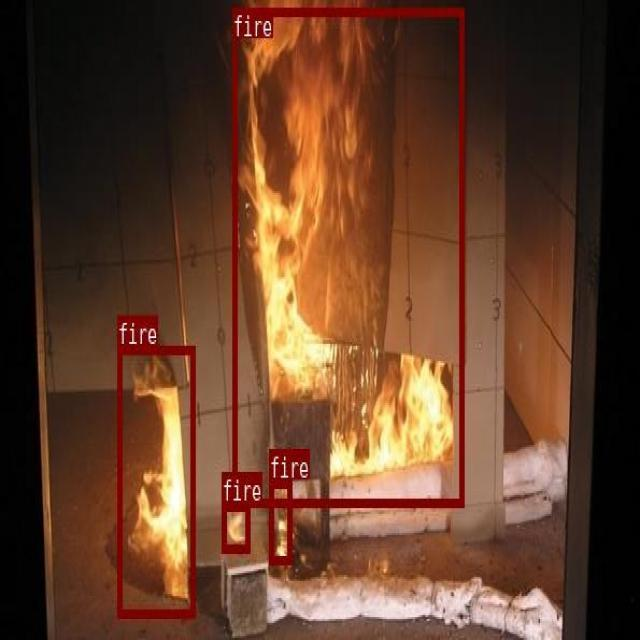fire: (231, 7, 463, 504), (117, 345, 195, 617), (268, 479, 291, 564), (221, 501, 249, 552)
